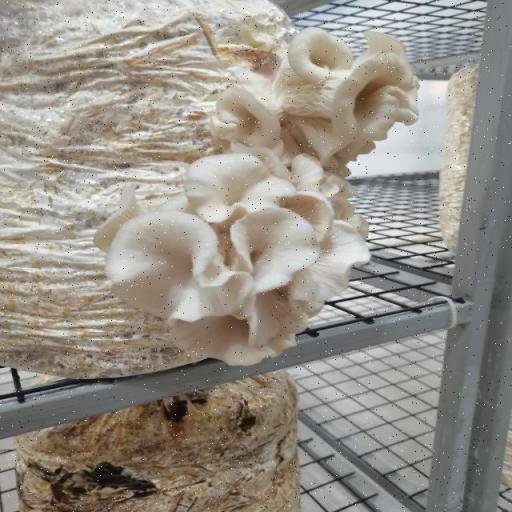White Oyster Mushroom: (84, 28, 445, 366)
